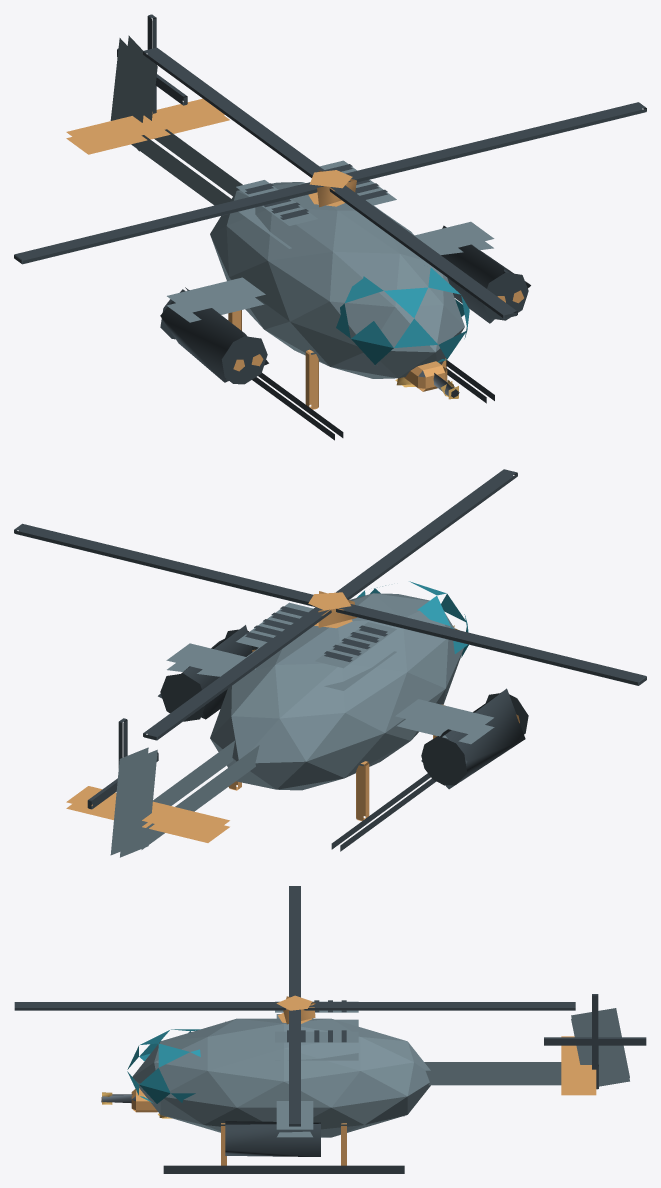
Rendered from boss-helicopter.glb.
3 views of the same model, one above another, from view 1: azimuth 30°, elevation 25°; view 2: azimuth 150°, elevation 25°; view 3: azimuth 270°, elevation 25° (orthographic). The views are drawn at different scales.
Visible parts, largest first — view 1: Armored fuselage, Rotor blade, Landing skid, Nose keel, Cockpit glazing, Rotor hub, Tail blade; view 2: Armored fuselage, Rotor blade, Landing skid, Nose keel, Cockpit glazing, Rotor hub, Tail blade; view 3: Armored fuselage, Rotor blade, Landing skid, Nose keel, Cockpit glazing, Tail blade, Rotor hub.
Part boxes in pixels (x1=…): Armored fuselage: x1=110, y1=35, x2=494, y2=378; Rotor blade: x1=14, y1=47, x2=646, y2=318; Landing skid: x1=160, y1=164, x2=530, y2=440; Nose keel: x1=66, y1=98, x2=523, y2=409; Cockpit glazing: x1=336, y1=267, x2=469, y2=364; Rotor hub: x1=308, y1=170, x2=356, y2=207; Tail blade: x1=117, y1=14, x2=187, y2=113; Armored fuselage: x1=110, y1=593, x2=494, y2=857; Rotor blade: x1=14, y1=469, x2=646, y2=740; Landing skid: x1=158, y1=606, x2=528, y2=851; Nose keel: x1=66, y1=649, x2=519, y2=842; Cockpit glazing: x1=357, y1=581, x2=468, y2=658; Rotor hub: x1=308, y1=591, x2=356, y2=628; Tail blade: x1=87, y1=718, x2=158, y2=809; Armored fuselage: x1=132, y1=1001, x2=629, y2=1137; Rotor blade: x1=14, y1=886, x2=575, y2=1126; Landing skid: x1=163, y1=1000, x2=404, y2=1173; Nose keel: x1=131, y1=1036, x2=596, y2=1165; Cockpit glazing: x1=127, y1=1029, x2=201, y2=1103; Tail blade: x1=544, y1=994, x2=646, y2=1089; Rotor hub: x1=276, y1=995, x2=315, y2=1024.
Size of the model in its own units: 10.3 by 3.12 by 11.6.
